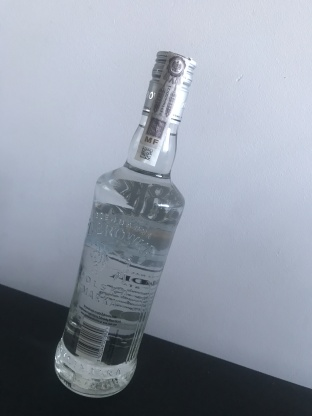nakretka: (140, 47, 198, 126)
